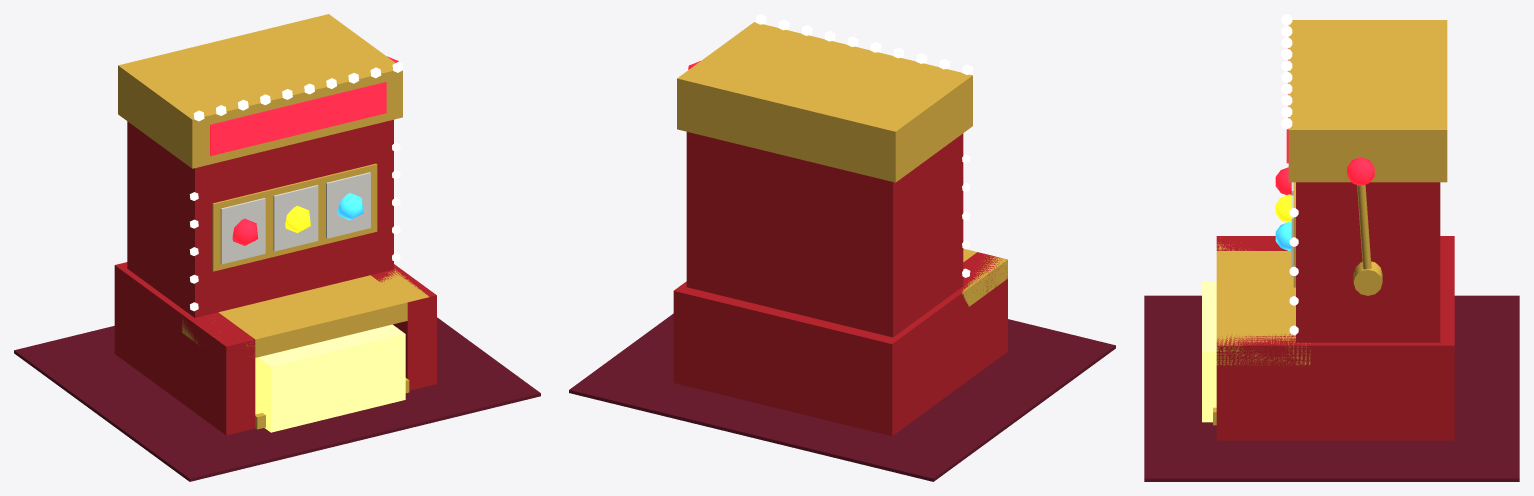
Rendered from JackpotFurnace_Roblox.fbx.
3 views of the same model, side by side, from view 1: azimuth 30°, elevation 25°; view 2: azimuth 150°, elevation 25°; view 3: azimuth 270°, elevation 25° (orthographic). The views are drawn at different scales.
Parts seen in each view (by area): view 1: CabinetRed, Gold, CasinoCarpet, BurnZone, ReelWhite, SymbolCherry, MarqueeBulbs; view 2: CabinetRed, Gold, CasinoCarpet, MarqueeBulbs; view 3: CabinetRed, Gold, CasinoCarpet, BurnZone, MarqueeBulbs, SymbolCherry.
Boxes of the visible parts, x1,y1,x2,y2 form: CabinetRed: (114,119,436,435); Gold: (118,14,428,429); CasinoCarpet: (14,317,540,481); BurnZone: (255,324,405,432); ReelWhite: (220,172,370,264); SymbolCherry: (210,56,398,245); MarqueeBulbs: (189,62,403,311); CabinetRed: (673,132,1007,436); Gold: (677,22,1007,306); CasinoCarpet: (569,313,1115,481); MarqueeBulbs: (755,14,973,277); CabinetRed: (1216,182,1454,440); Gold: (1213,20,1447,425); CasinoCarpet: (1144,295,1519,481); BurnZone: (1202,282,1216,422); MarqueeBulbs: (1281,14,1298,334); SymbolCherry: (1275,48,1374,195).
Size of the model in its own units: 1200 by 993 by 1040.
